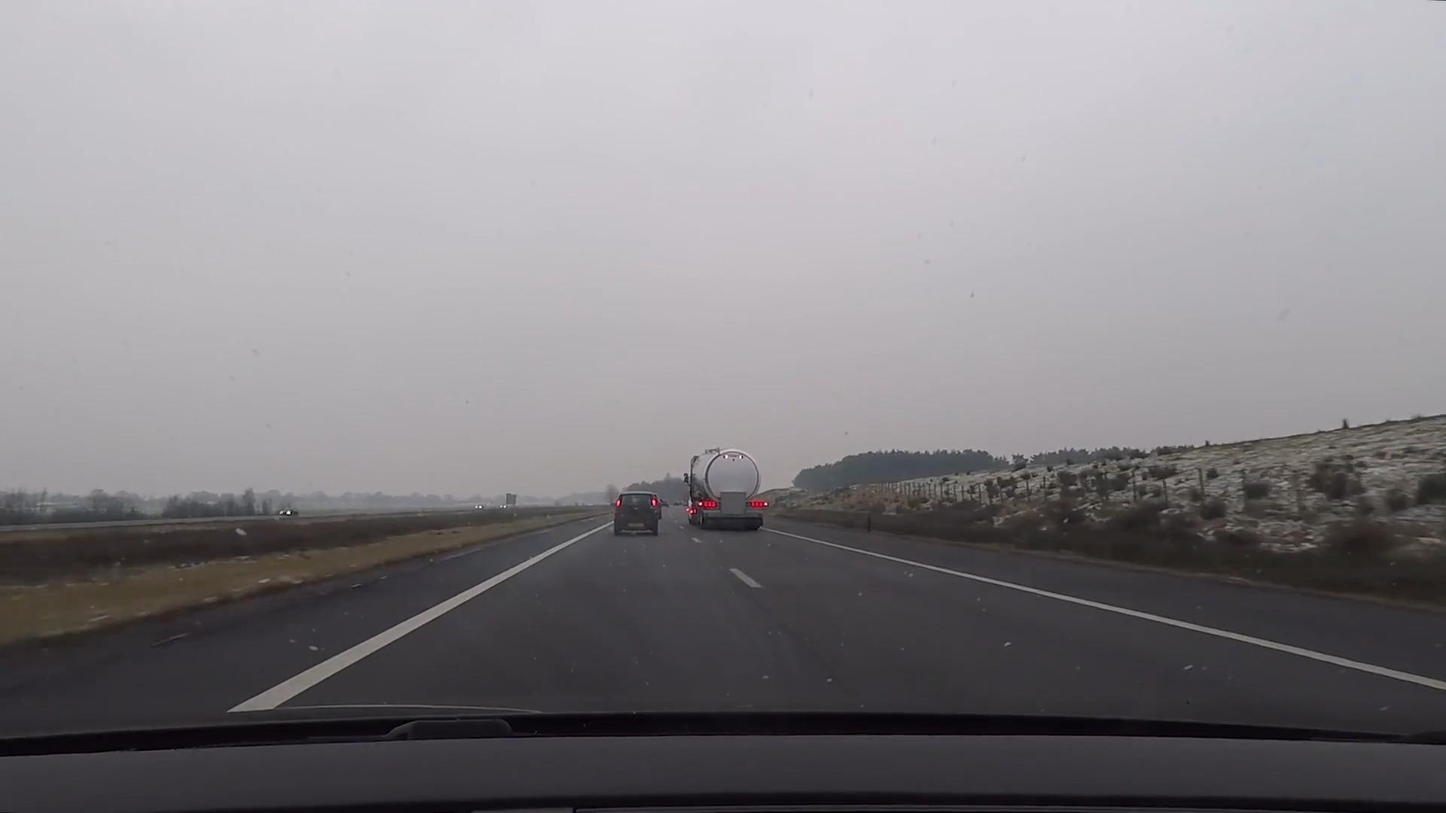dry: (0, 507, 1446, 732)
